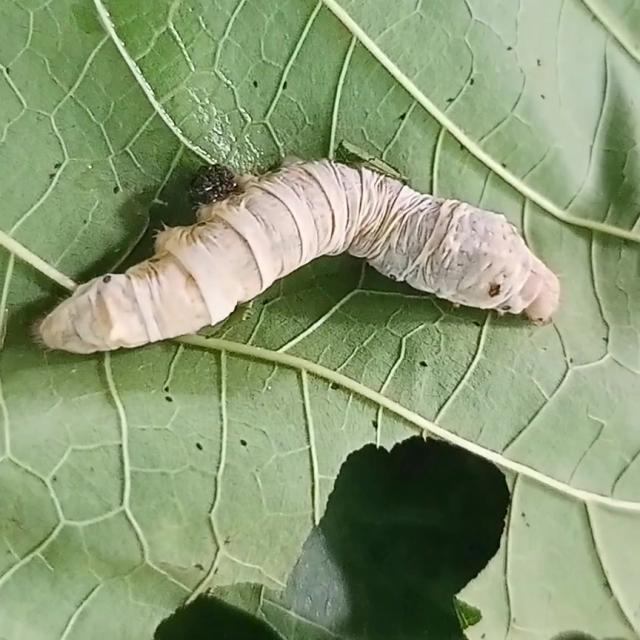Grasserie: (23, 127, 570, 387)
